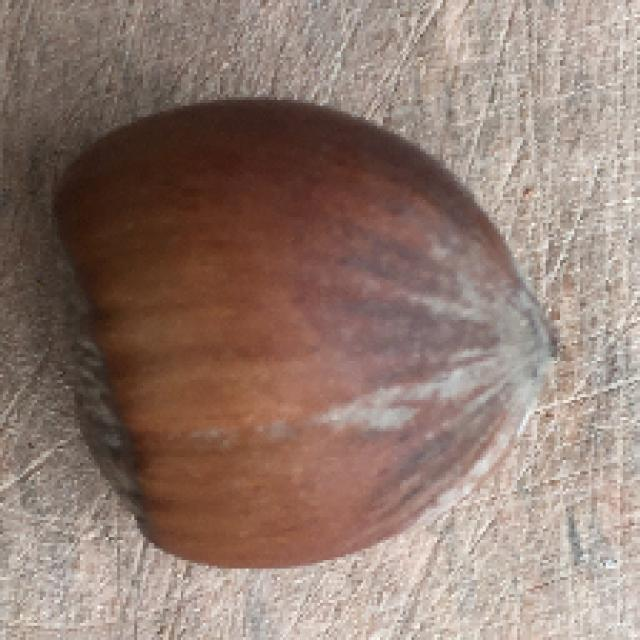qualityHazelnut: (40, 101, 556, 570)
